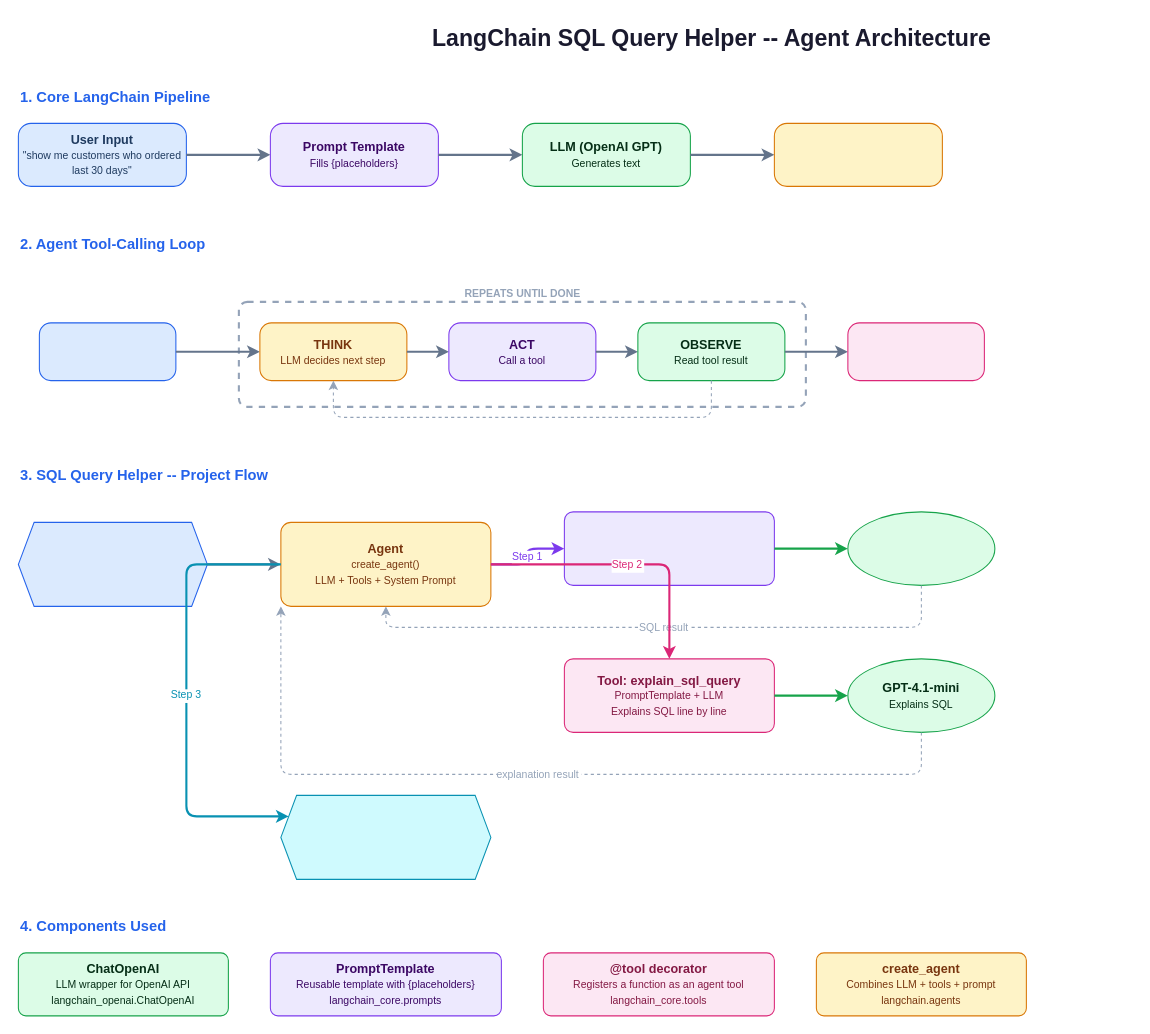
The diagram is 1150 pixels wide and 1034 high, and some of its shapes have lost their labels. The shapes that lost their labels are listed below. From the top down, each one's centre as x and y in pixels, then its label:
the point at 857,154: Output Generated response
the point at 107,351: RECEIVE User message
the point at 915,351: RESPOND Final answer
the point at 112,563: User "show me customers who ordered last 30 days"
the point at 668,548: Tool: generate_sql_query PromptTemplate + LLM Creates SQL query
the point at 921,548: GPT-4.1-mini Generates SQL
the point at 385,836: Final Humanized Email Warm, natural email returned to the user
